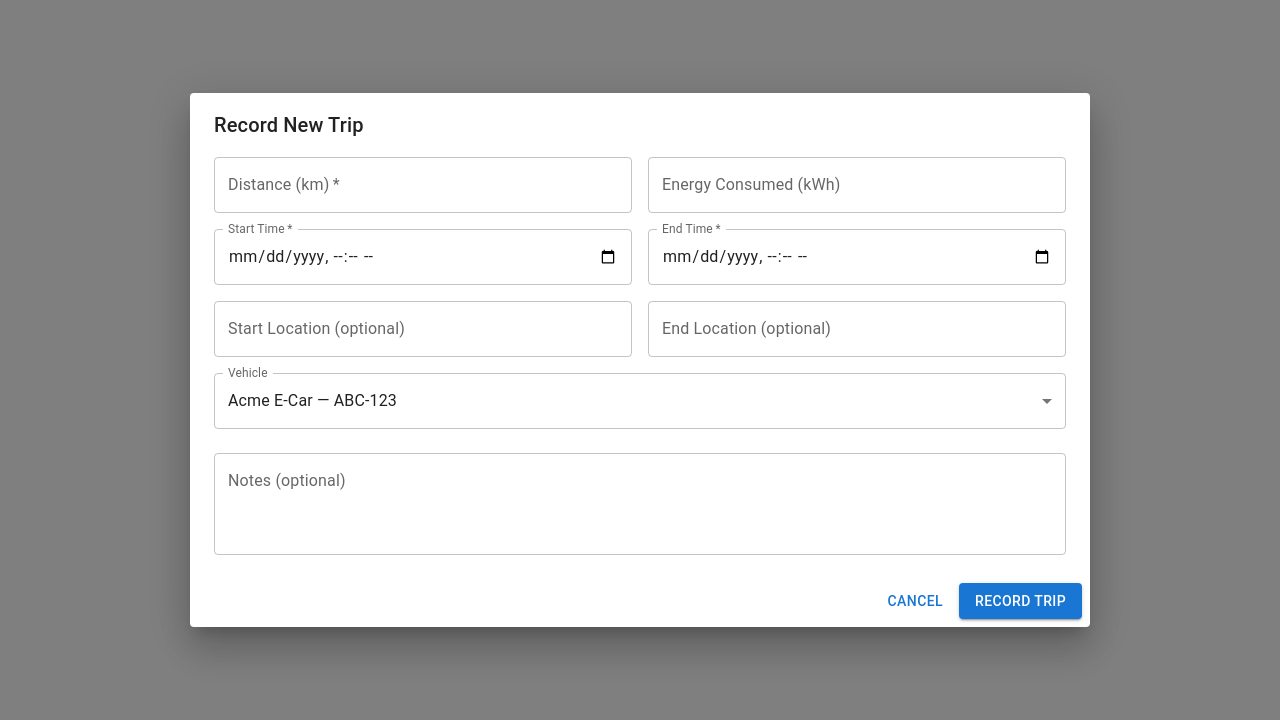
it: RecordTripModal › shows server validation errors when createTrip fails with 400
The image size is (1280, 720).
Type "0.05" into the number field labelled "Distance (km) *".
click(423, 185); type("0.05")  # box [214,157,632,213]
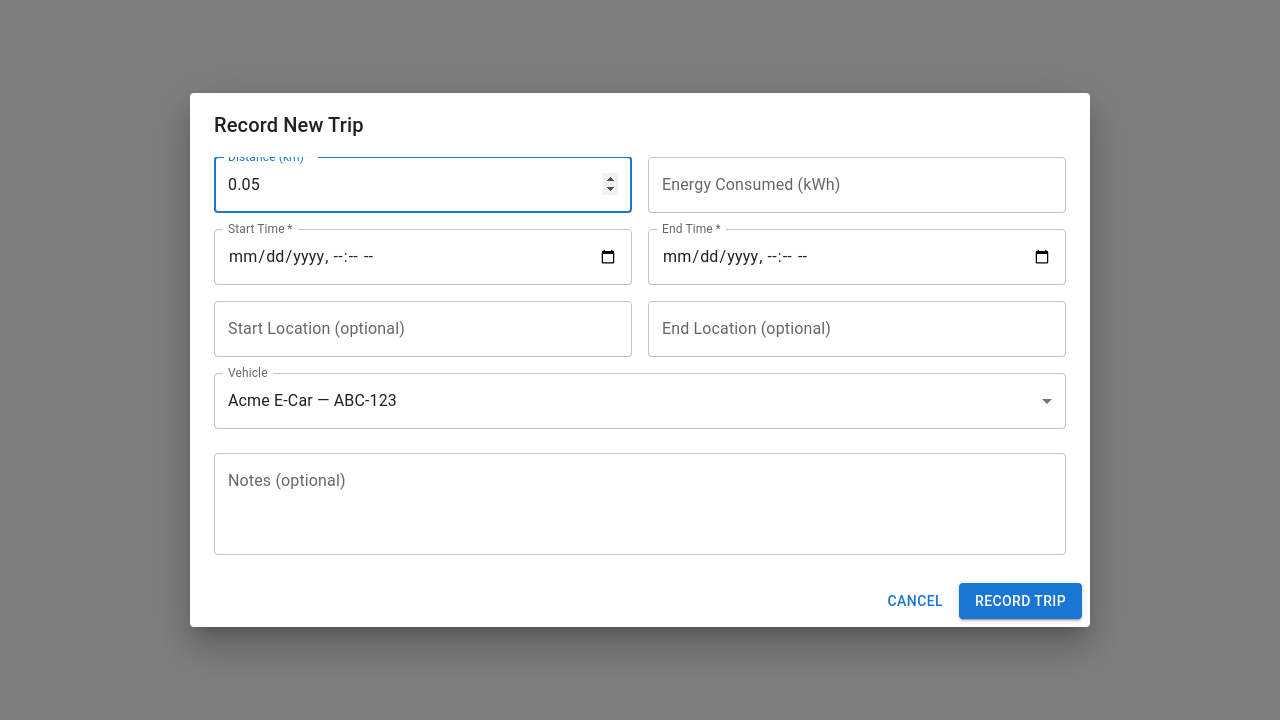
Type "2000-11-11T04:11" into the field labelled "Start Time *".
click(423, 257); type("2000-11-11T04:11")  # box [214,229,632,285]
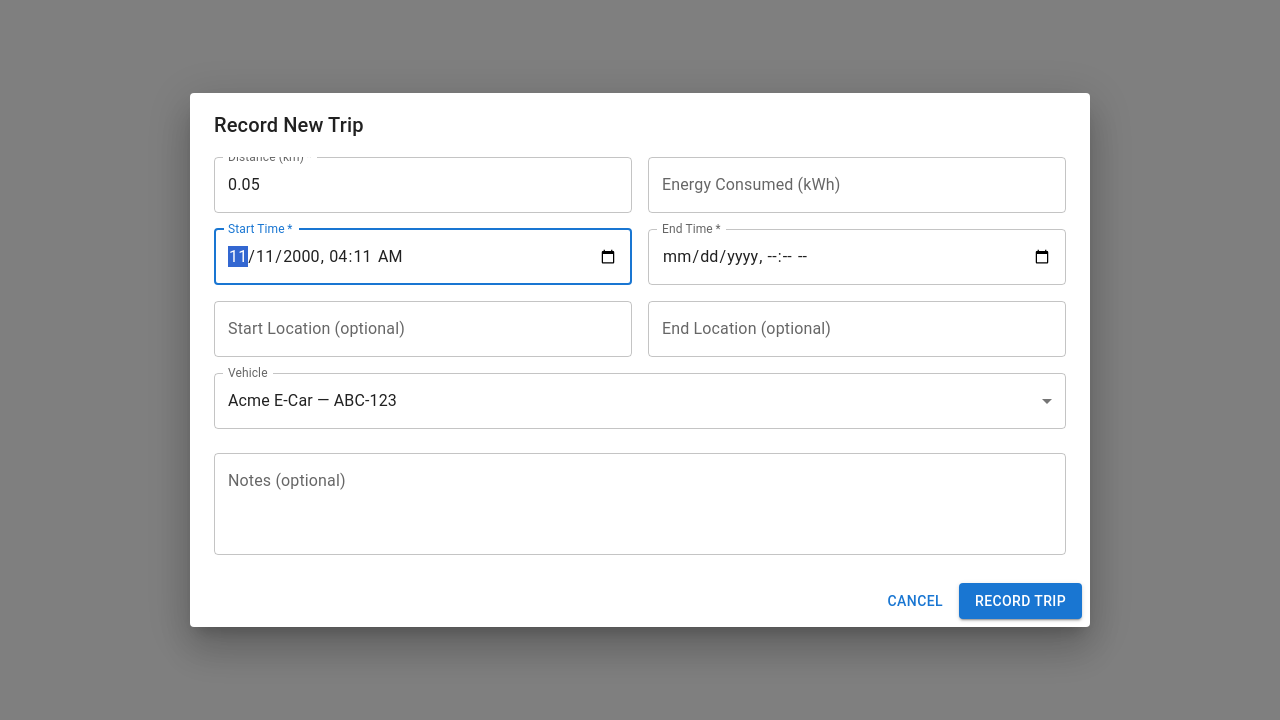
Type "2000-11-11T05:11" into the field labelled "End Time *".
click(857, 257); type("2000-11-11T05:11")  # box [648,229,1066,285]
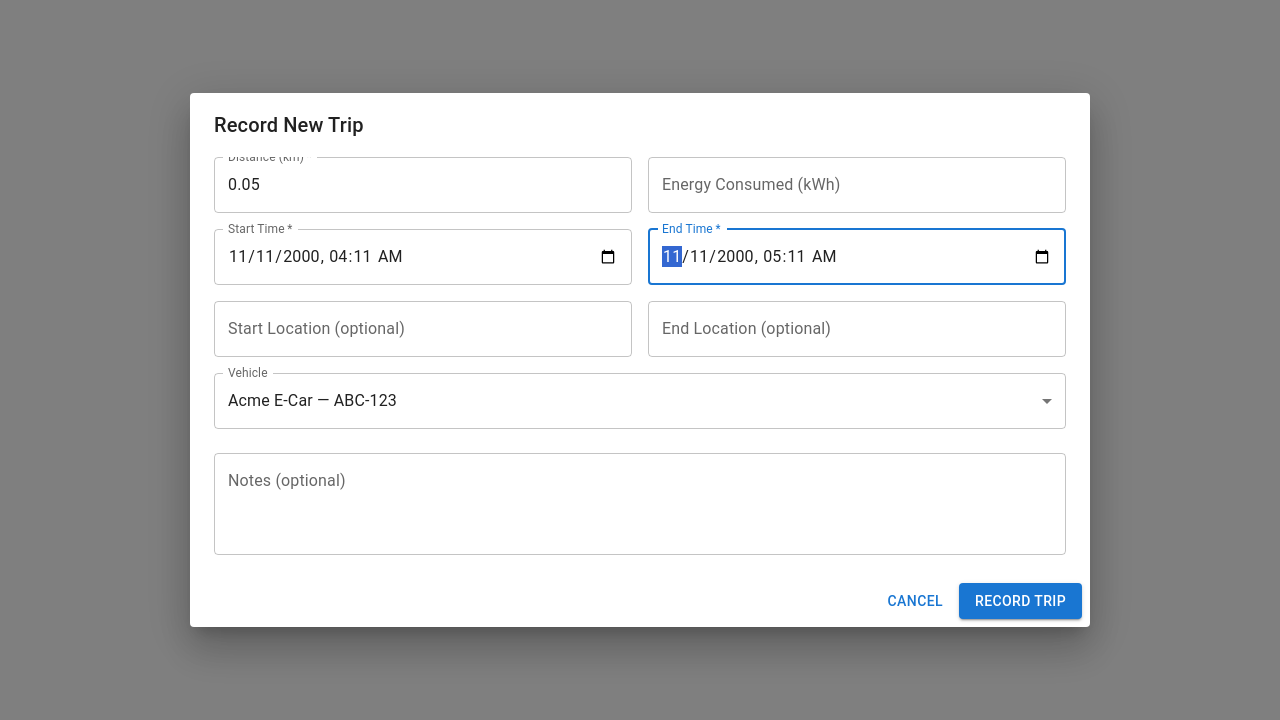
Click the button "Record Trip".
click(1020, 601)  # box [959,583,1082,619]
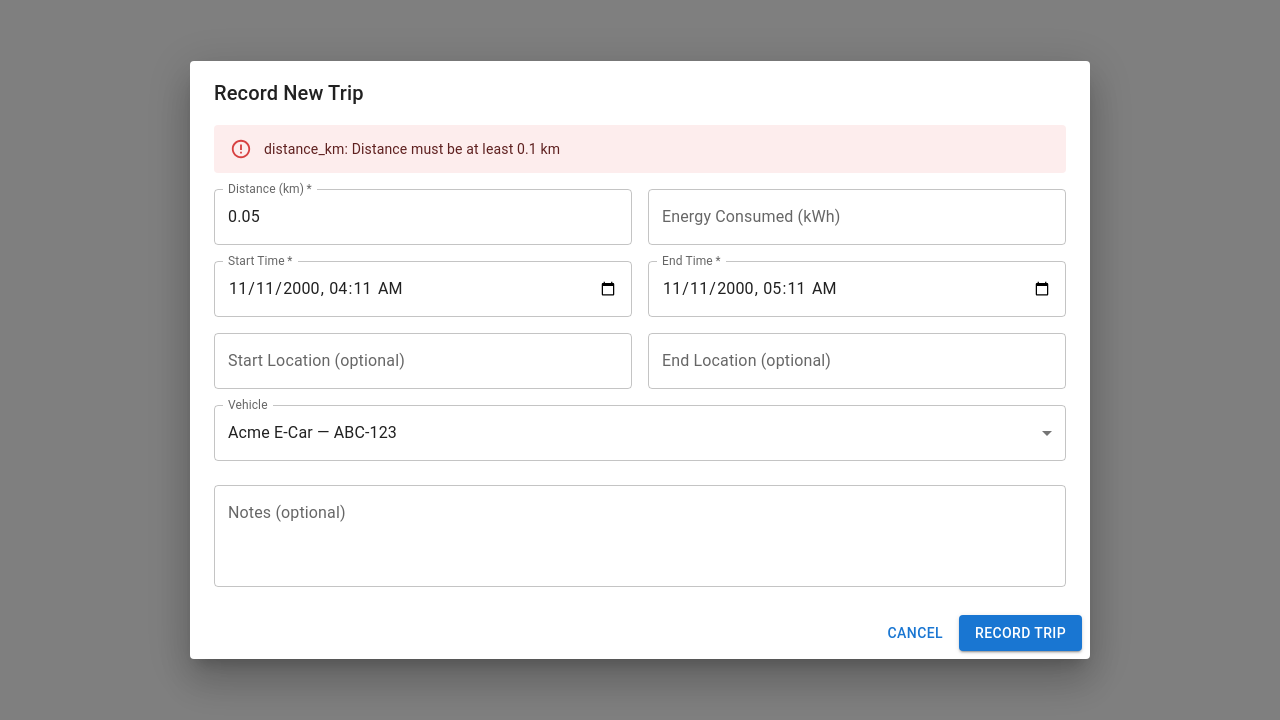
Now the text "distance_km: Distance must be at least 0.1 km" is shown, box [264,141,560,157]
